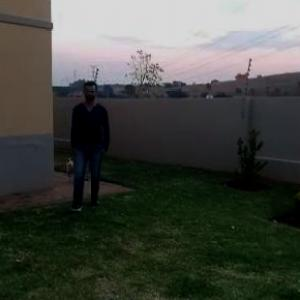follow: (63, 76, 107, 216)
